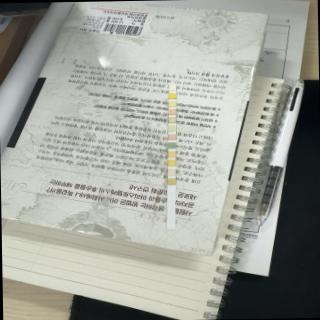mark: (167, 151, 176, 158), (168, 178, 175, 185), (168, 160, 175, 167), (168, 134, 176, 140), (168, 125, 176, 131), (168, 117, 176, 123), (168, 100, 176, 106), (168, 93, 176, 99), (168, 170, 175, 176), (168, 142, 175, 148), (168, 109, 175, 115), (168, 85, 176, 90)
